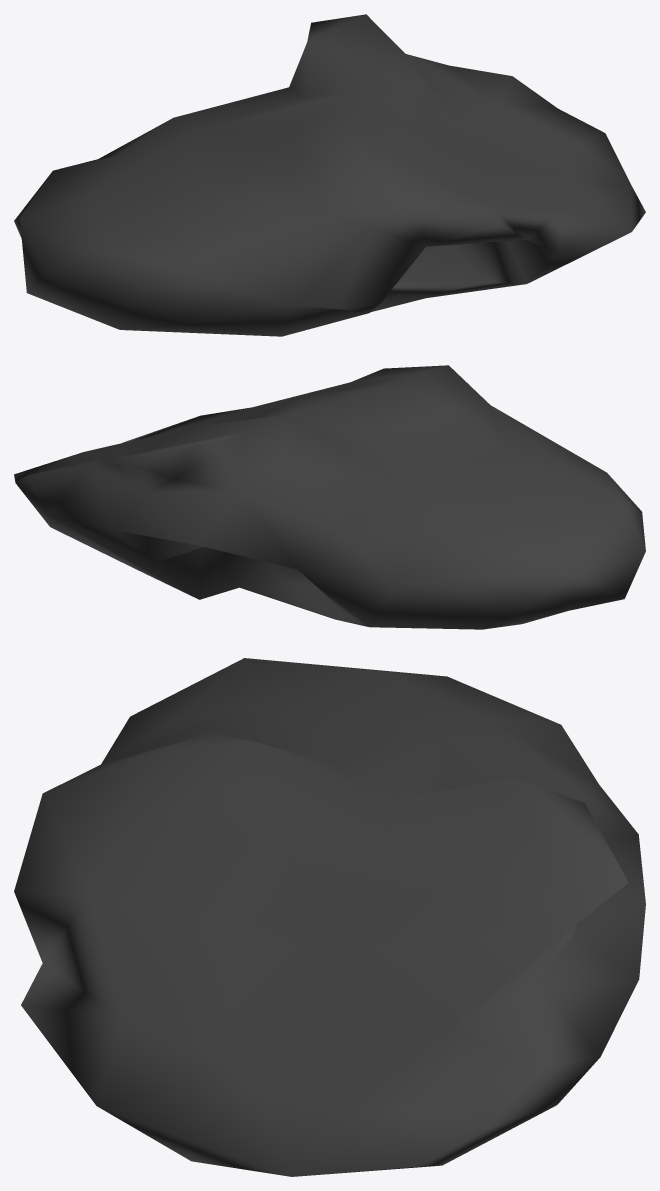
The model's file is reclining-0.glb.
3 views of the same model, one above another, from view 1: azimuth 30°, elevation 25°; view 2: azimuth 150°, elevation 25°; view 3: azimuth 270°, elevation 25° (orthographic). The views are drawn at different scales.
Parts seen in each view (by area): view 1: geometry_0; view 2: geometry_0; view 3: geometry_0.
Part boxes in pixels (bbox=[...]): geometry_0: bbox=[14, 14, 645, 336]; geometry_0: bbox=[14, 365, 645, 629]; geometry_0: bbox=[14, 658, 645, 1176].
Bounding box in the file's own units: 3.29 × 1 × 2.01.
Materials: 1 (1 with a texture image).
